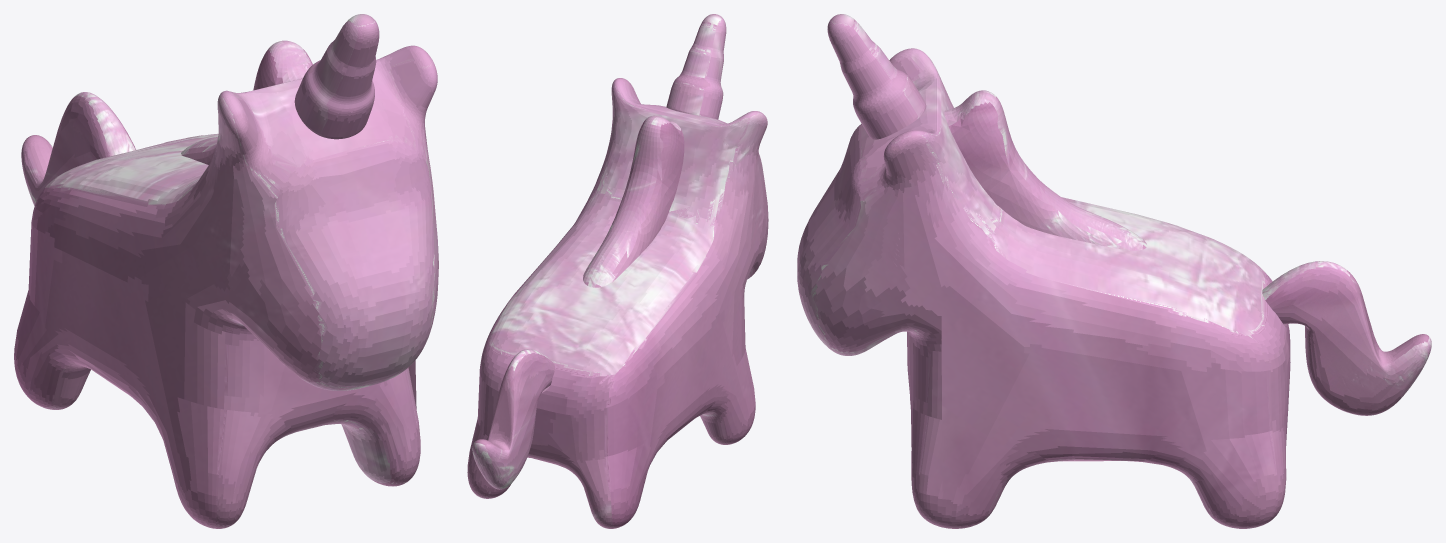
The model's file is unicorn.obj.
3 views of the same model, side by side, from view 1: azimuth 30°, elevation 25°; view 2: azimuth 150°, elevation 25°; view 3: azimuth 270°, elevation 25° (orthographic). The views are drawn at different scales.
Parts seen in each view (by area): view 1: unicorn_body_closed, unicorn_tail, unicorn_hair; view 2: unicorn_body_closed, unicorn_hair, unicorn_tail; view 3: unicorn_body_closed, unicorn_tail, unicorn_hair.
Boxes of the visible parts, box(x1,y1,x2,y2) form: unicorn_body_closed: box(14, 14, 438, 528); unicorn_tail: box(21, 92, 135, 205); unicorn_hair: box(181, 40, 312, 164); unicorn_body_closed: box(467, 14, 768, 528); unicorn_hair: box(583, 115, 684, 287); unicorn_tail: box(472, 349, 554, 489); unicorn_body_closed: box(797, 14, 1290, 528); unicorn_tail: box(1262, 261, 1431, 415); unicorn_hair: box(944, 90, 1147, 250).
Size of the model in its own units: 1.99 by 4.39 by 5.33.
Materials: 1 (1 with a texture image).
